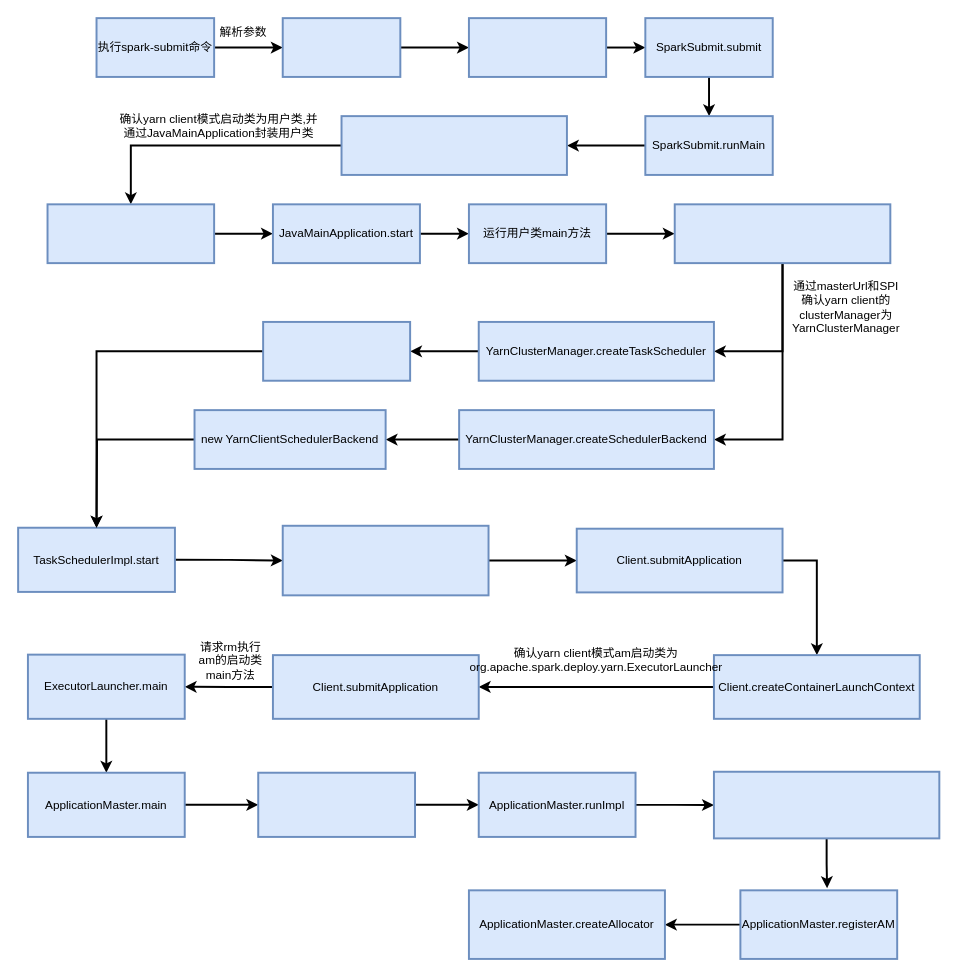
Image size: 956x976. Some labels were removed from this diagram. The shapes that lost their labels are listed below. From the top down, each one's centre as x and y in pixels, then its label:
At pixel 341 47: "SparkSubmit.main".
At pixel 537 47: "SparkSubmit.doSubmit".
At pixel 453 145: "SparkSubmit.prepareSubmitEnviroment".
At pixel 130 233: "new JavaMainApplication(mainClass)".
At pixel 782 233: "new SparkContext".
At pixel 336 350: "new YarnScheduler".
At pixel 385 560: "YarnClientSchedulerBackend.start".
At pixel 336 804: "ApplicationMaster.run".
At pixel 826 804: "ApplicationMaster.runExecutorLauncher".
